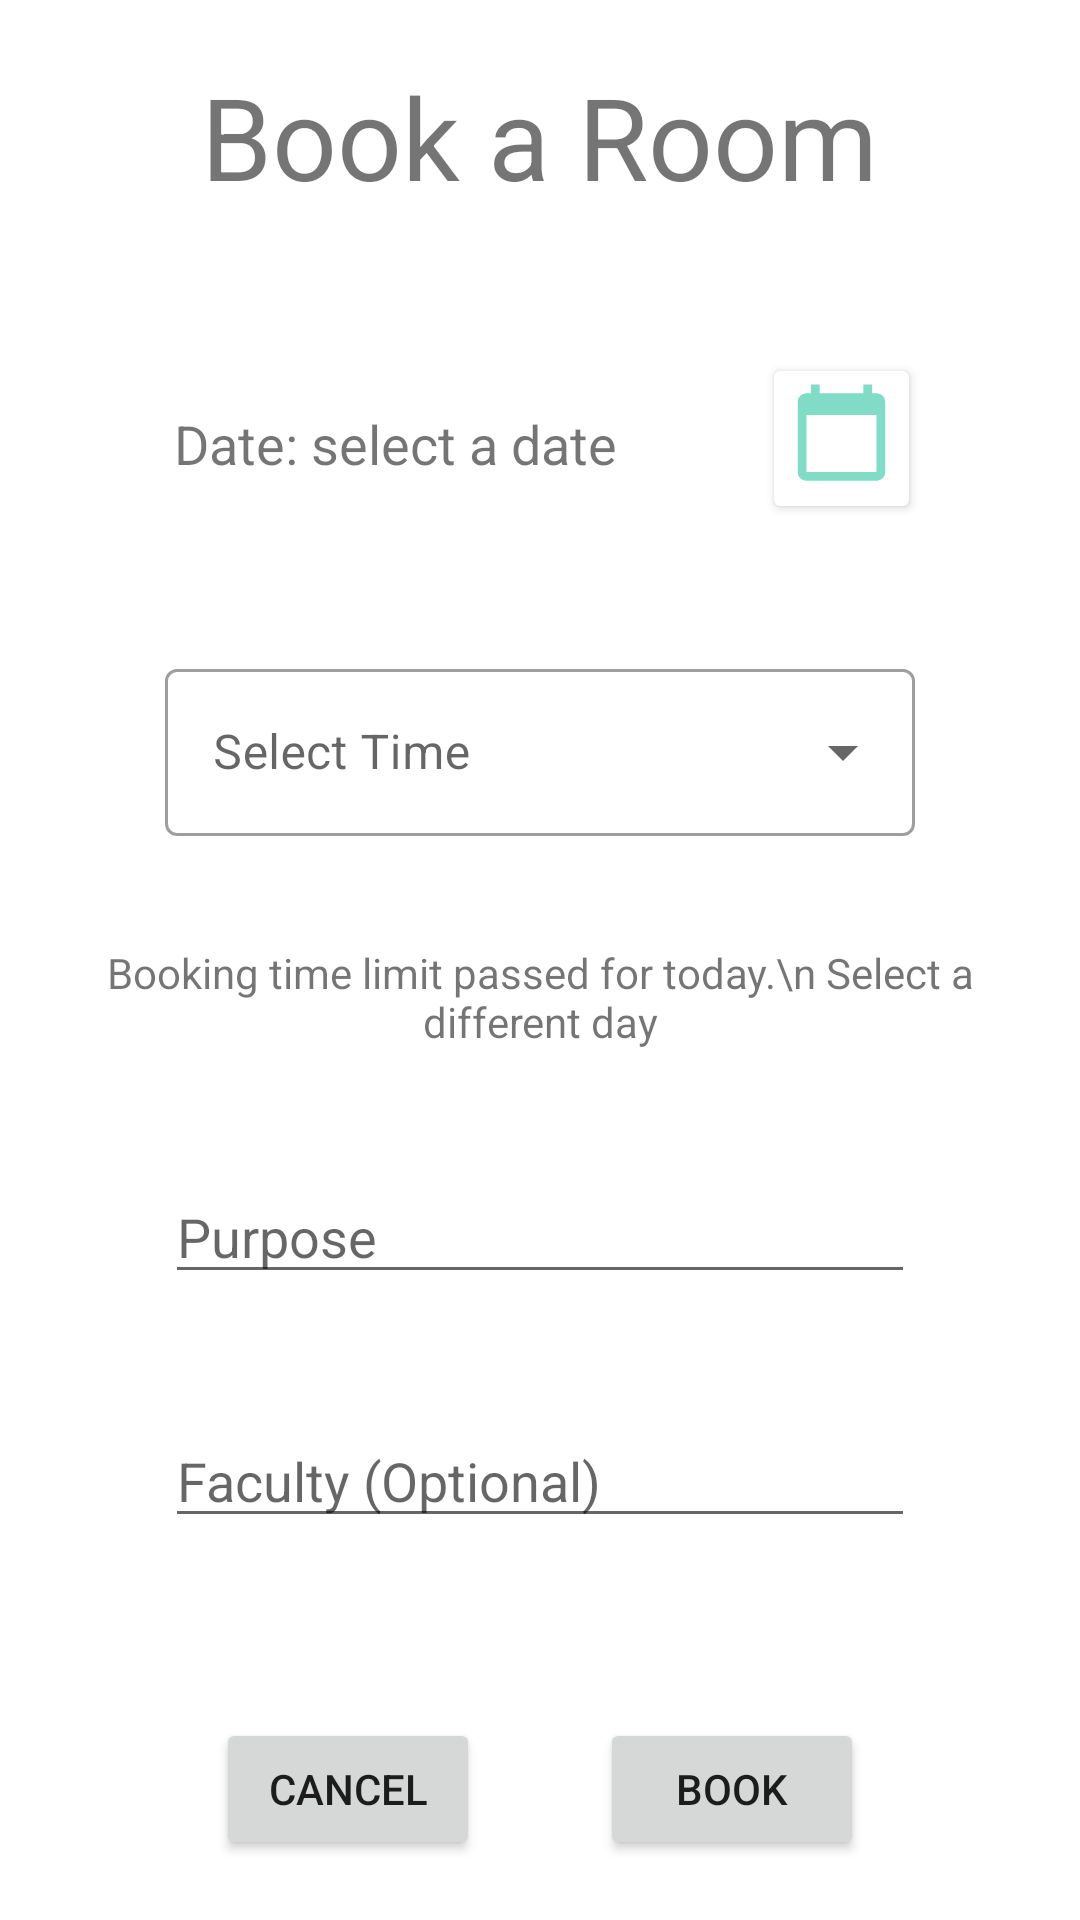

Screen size 1080 × 1920. Icon name, then its center in pixels as point (x, y):
calendar: point (841, 432)
